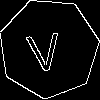V: (24, 23, 64, 73)
